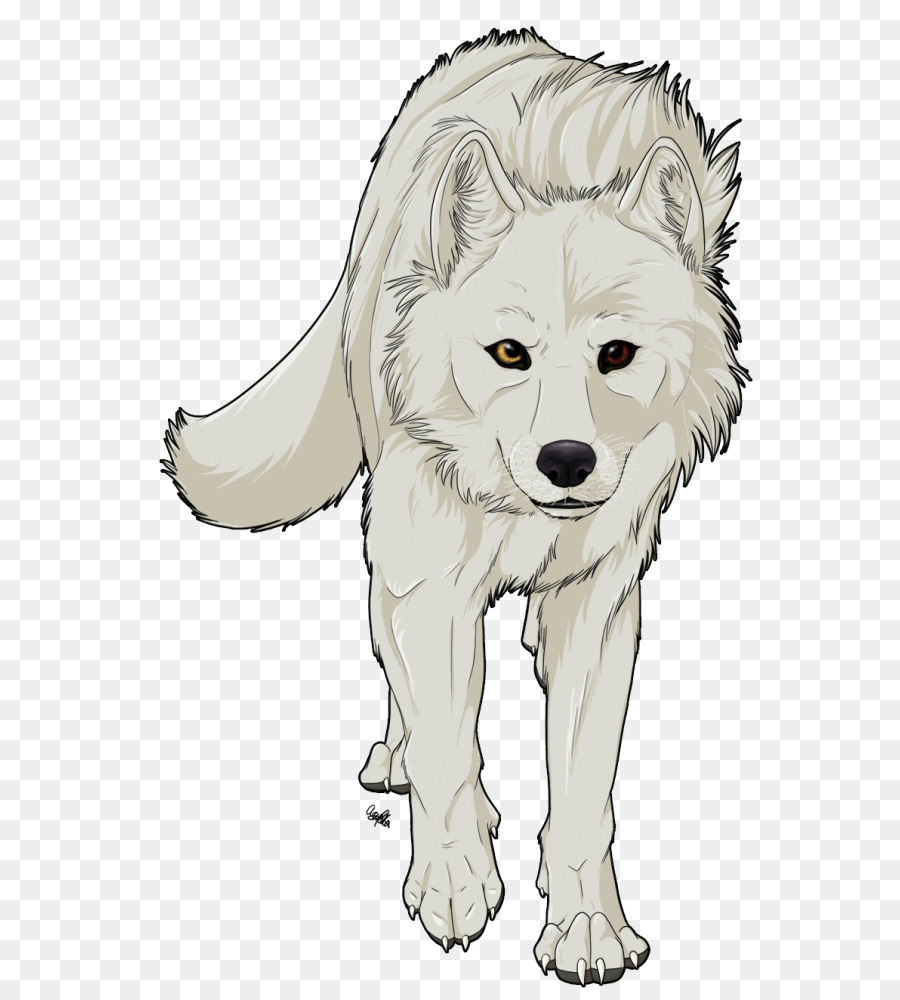Lobo: (161, 23, 786, 1000)
